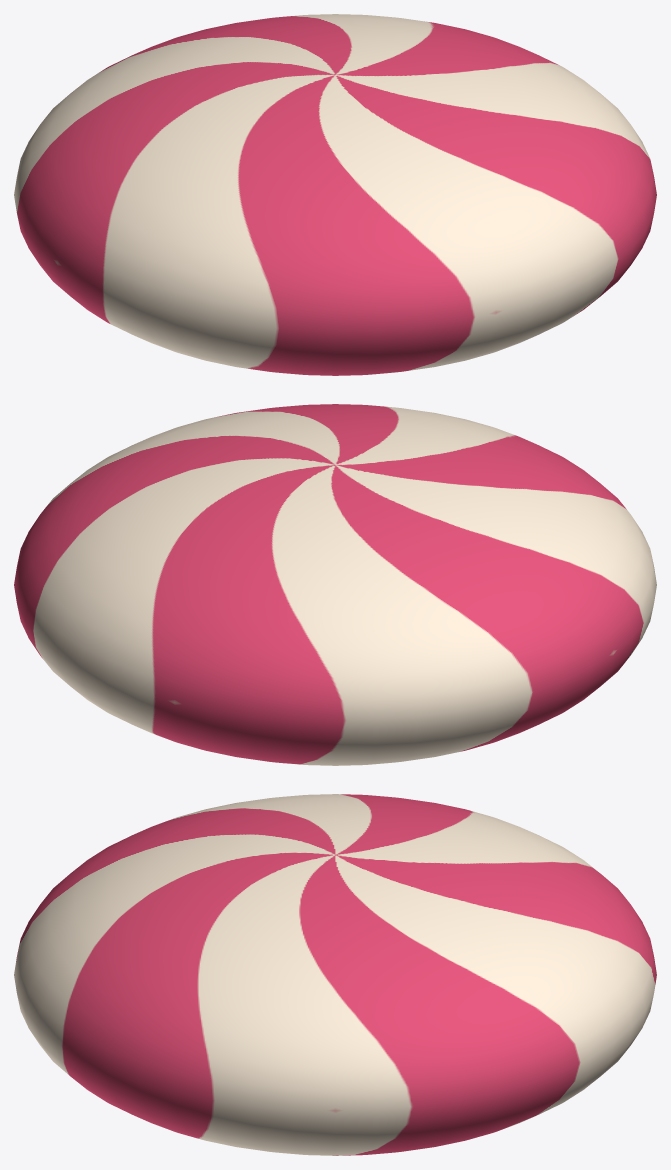
The model's file is peppermint.glb.
The picture shows the model from 3 angles, top to bottom: view 1: azimuth 30°, elevation 25°; view 2: azimuth 150°, elevation 25°; view 3: azimuth 270°, elevation 25°; orthographic projection.
Parts seen in each view (by area): view 1: Pinwheel; view 2: Pinwheel; view 3: Pinwheel.
Boxes of the visible parts, <box> form: Pinwheel: <box>14,14,656,375</box>; Pinwheel: <box>14,404,656,765</box>; Pinwheel: <box>14,794,656,1155</box>.
Bounding box in the file's own units: 0.51 × 0.21 × 0.51.
1 material, 1 textured.
